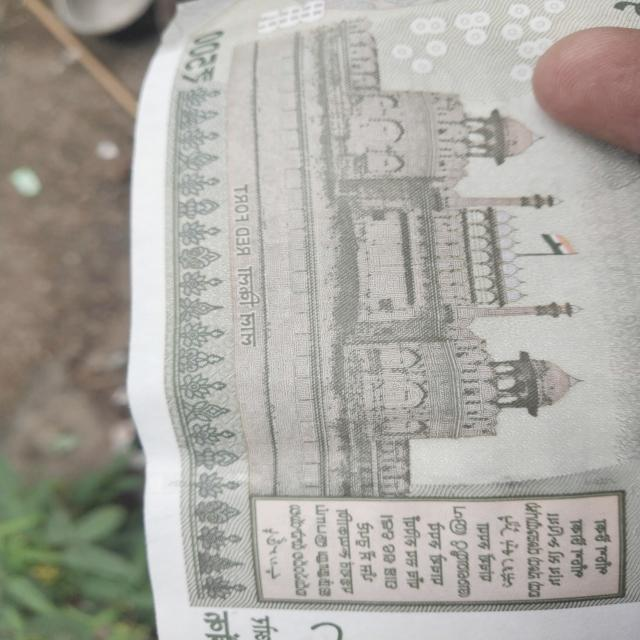500rs: (125, 0, 638, 640)
